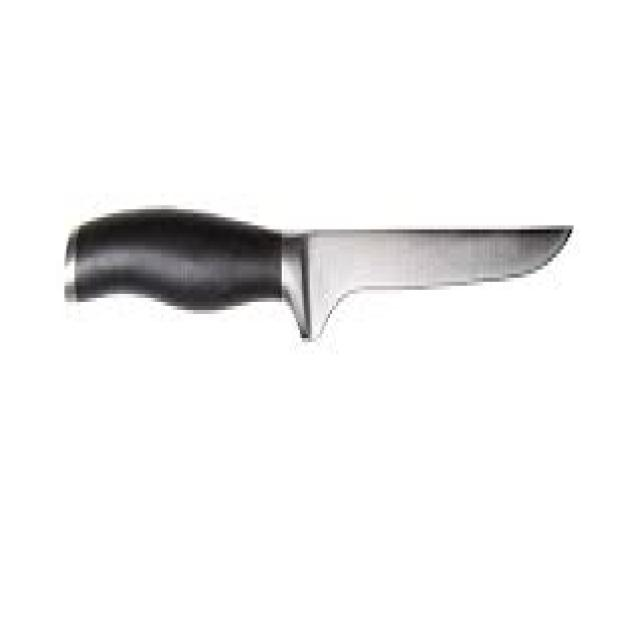Knife: (62, 201, 574, 338)
